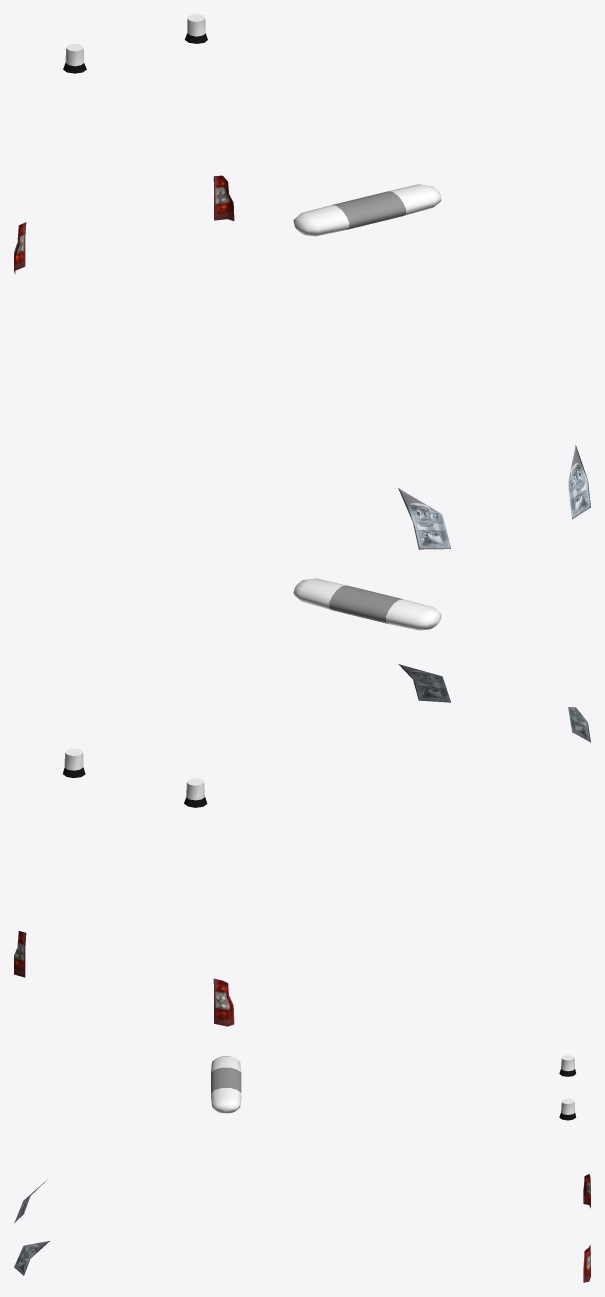
File: MiniBus_Ambulance (1).fbx
The picture shows the model from 3 angles, top to bottom: view 1: azimuth 30°, elevation 25°; view 2: azimuth 150°, elevation 25°; view 3: azimuth 270°, elevation 25°; orthographic projection. The views are drawn at different scales.
Parts seen in each view (by area): view 1: Object003, Object004, Object007; view 2: Object003, Object004, Object007; view 3: Object003, Object004, Object007, Object002, Object001.
Part boxes in pixels (bbox=[...]): Object003: bbox=[293, 184, 441, 236]; Object004: bbox=[398, 445, 590, 549]; Object007: bbox=[14, 175, 234, 274]; Object003: bbox=[293, 578, 441, 630]; Object004: bbox=[398, 664, 590, 742]; Object007: bbox=[14, 931, 234, 1026]; Object003: bbox=[211, 1056, 241, 1113]; Object004: bbox=[14, 1179, 49, 1275]; Object007: bbox=[583, 1174, 590, 1282]; Object002: bbox=[559, 1098, 576, 1120]; Object001: bbox=[559, 1055, 576, 1076].
Size of what is drawn, in the model's own units: 79.33 by 78.83 by 246.
Materials: 6 (2 with a texture image).
